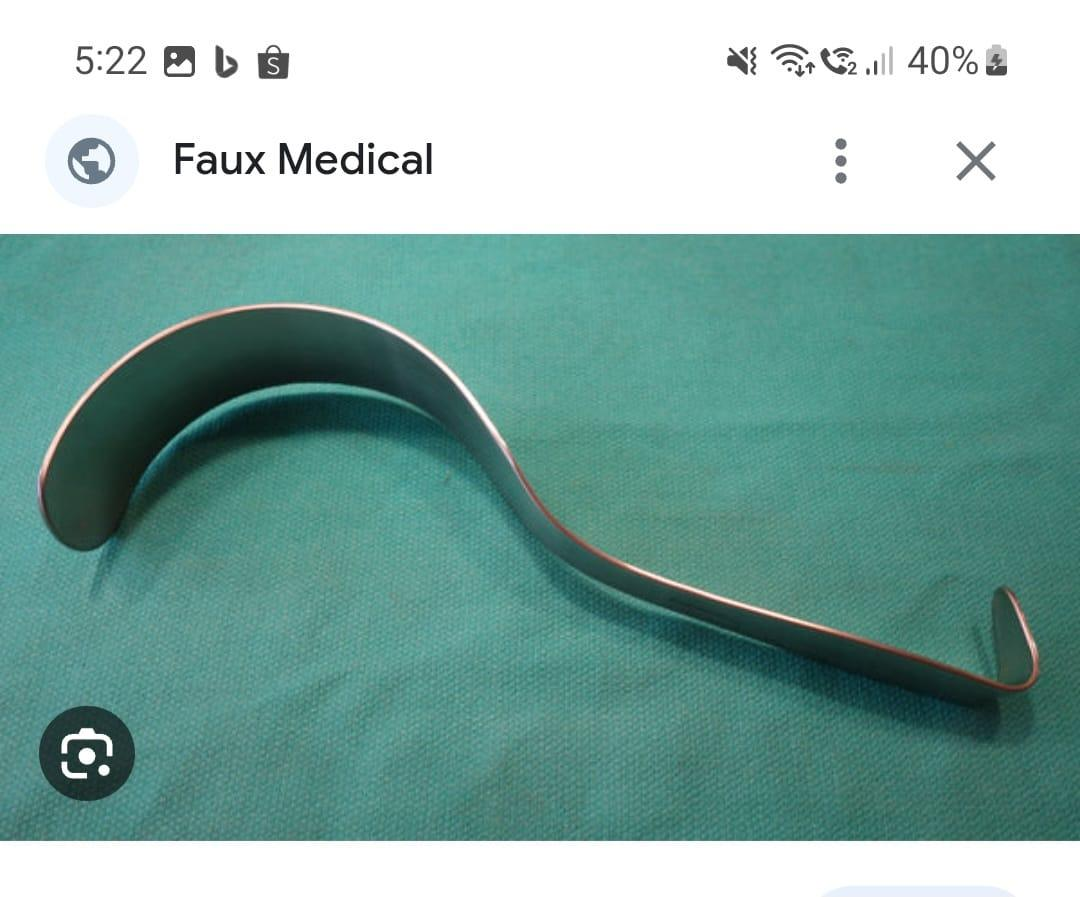Deaver Retractor: (16, 269, 1047, 714)
